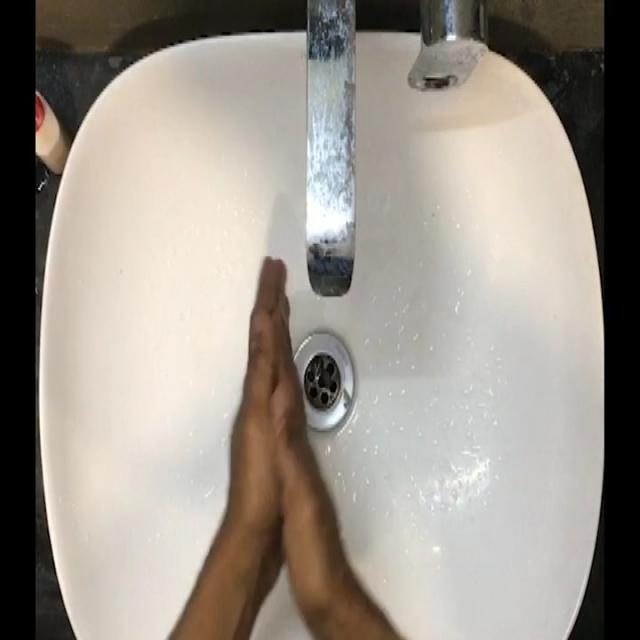step_1: (202, 237, 349, 553)
